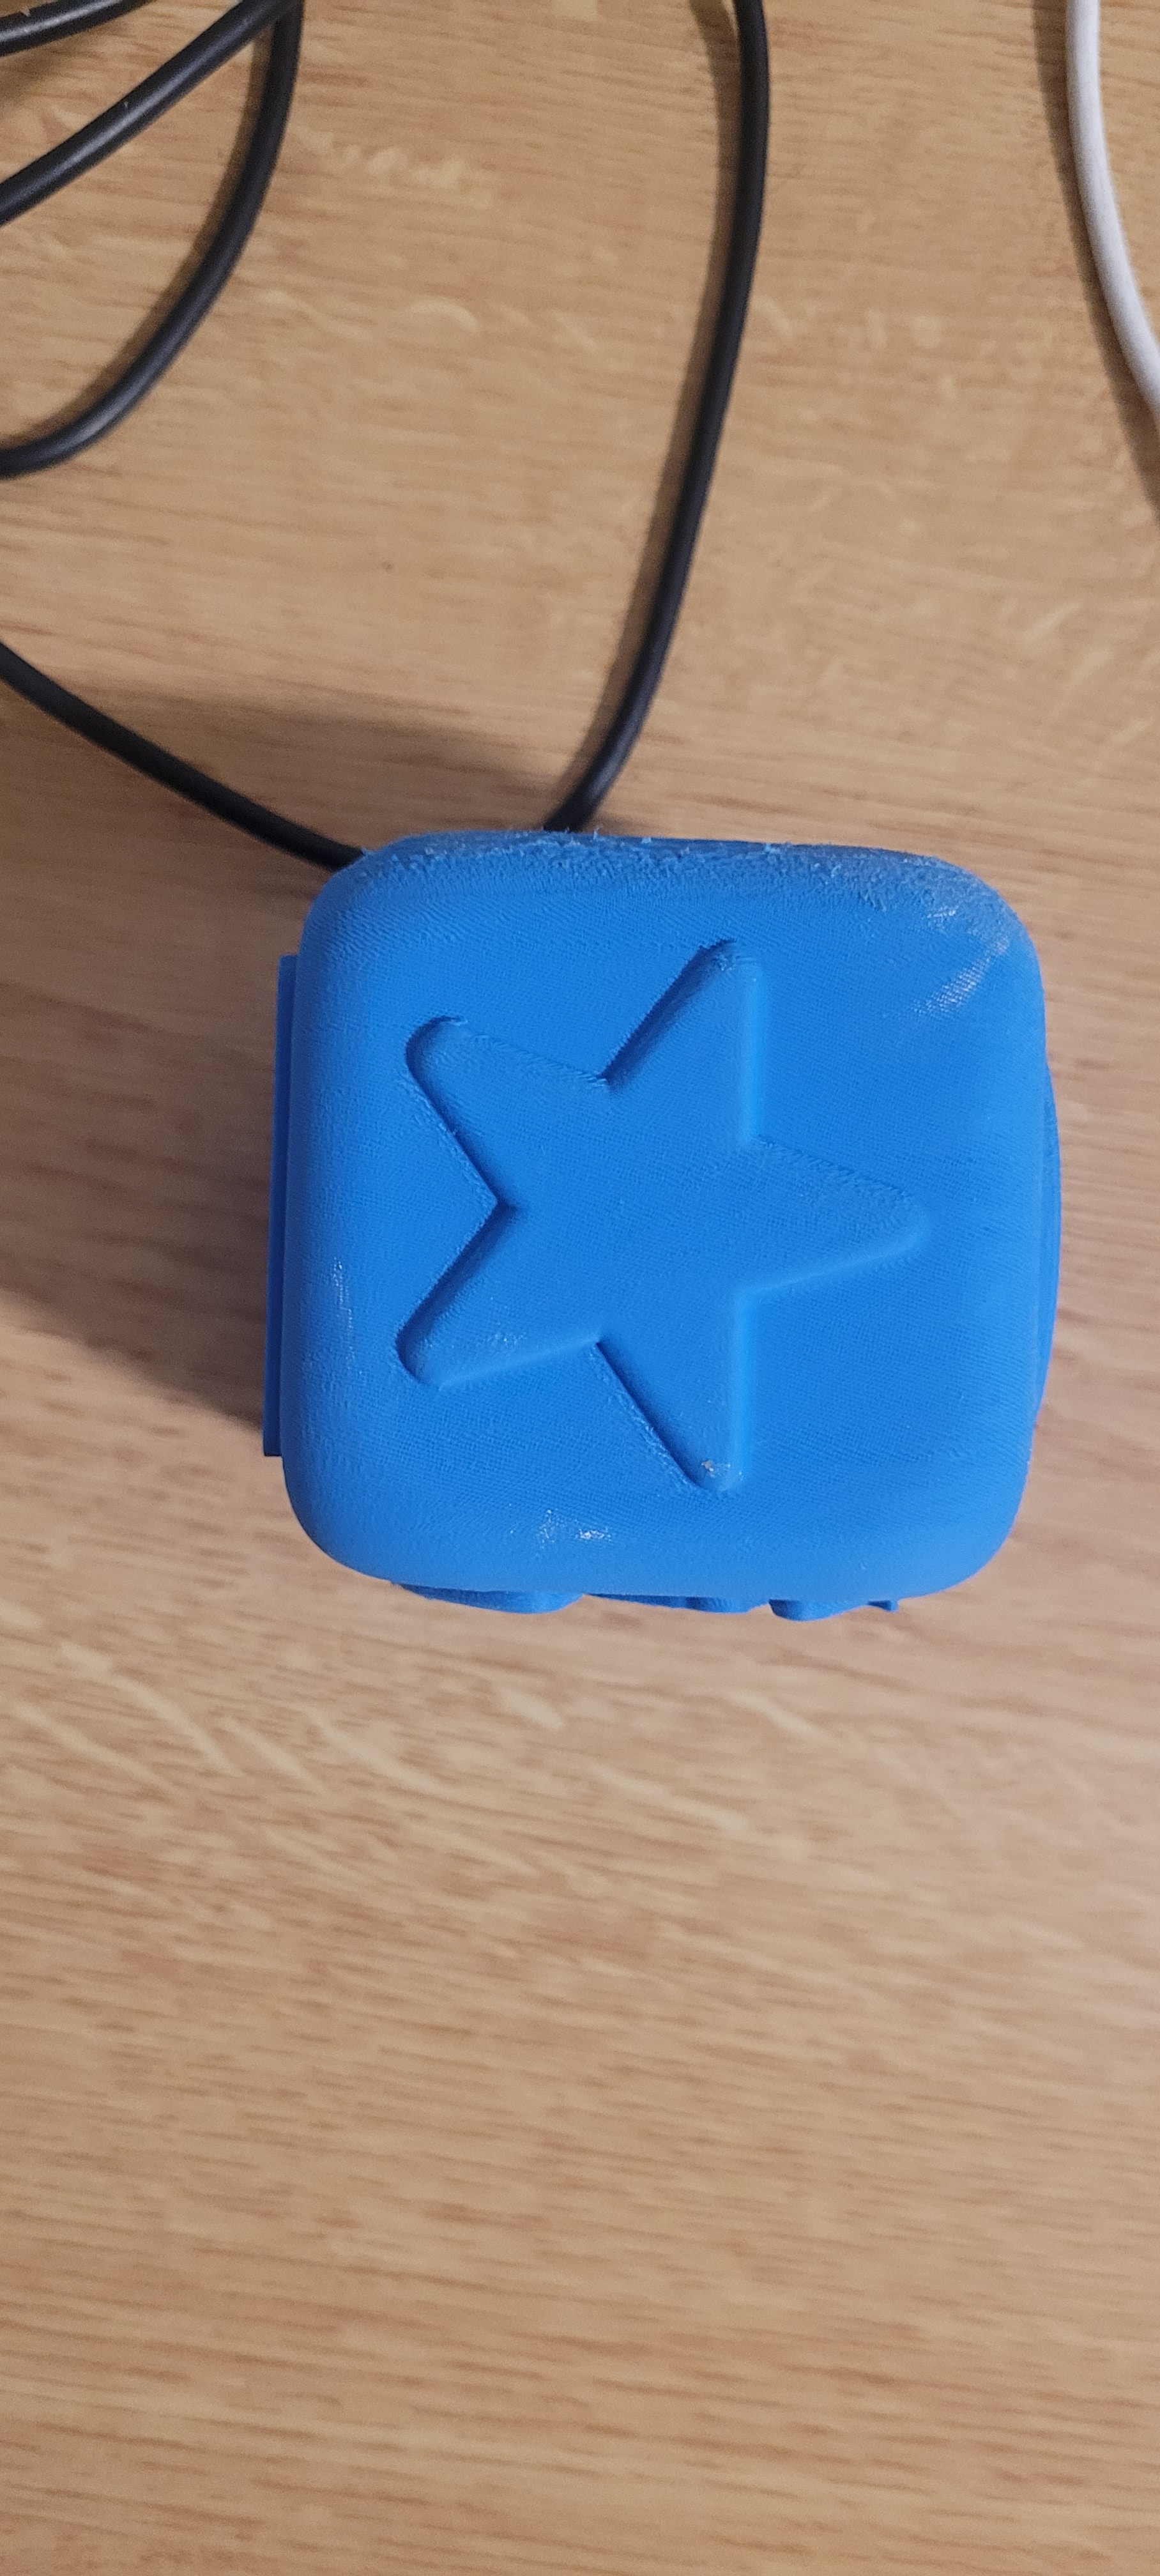Star: (311, 848, 1006, 1556)
